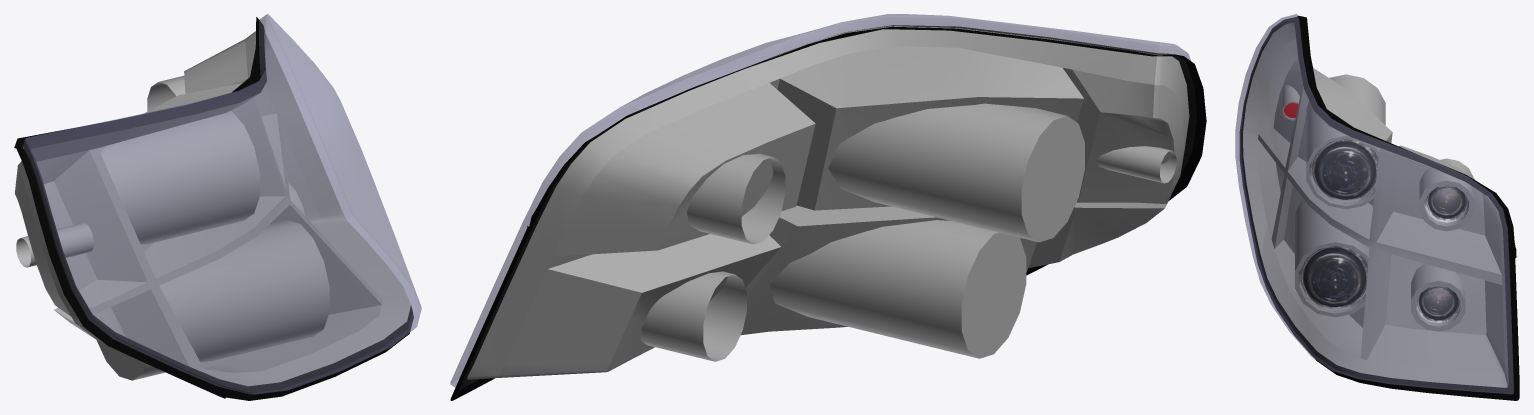
3 renders of one model, left to right at view 1: azimuth 30°, elevation 25°; view 2: azimuth 150°, elevation 25°; view 3: azimuth 270°, elevation 25°, orthographic. The views are drawn at different scales.
Parts seen in each view (by area): view 1: H712_061B_R_H712_061B_R_8_DTaSI, H712_061B_R_H712_061B_R_1_DaS, H712_061B_R_9_D_H712_061B_R, H712_061B_R_H712_061B_R_2_D; view 2: H712_061B_R_H712_061B_R_1_DaS, H712_061B_R_H712_061B_R_8_DTaSI, H712_061B_R_9_D_H712_061B_R, H712_061B_R_H712_061B_R_2_D; view 3: H712_061B_R_H712_061B_R_8_DTaSI, H712_061B_R_H712_061B_R_1_DaS, H712_061B_R_9_D_H712_061B_R, H712_061B_R_H712_061B_R_2_D, H712_061B_R_H712_061B_R_5_N, H712_061B_R_H712_061B_R_6_N, H712_061B_R_H712_061B_R_3_N, H712_061B_R_H712_061B_R_4_N.
Part boxes in pixels (left/top/right/bottom): H712_061B_R_H712_061B_R_8_DTaSI: left=23, top=14, right=421, bottom=394; H712_061B_R_H712_061B_R_1_DaS: left=15, top=27, right=410, bottom=386; H712_061B_R_9_D_H712_061B_R: left=14, top=17, right=413, bottom=400; H712_061B_R_H712_061B_R_2_D: left=23, top=20, right=412, bottom=393; H712_061B_R_H712_061B_R_1_DaS: left=467, top=26, right=1189, bottom=379; H712_061B_R_H712_061B_R_8_DTaSI: left=450, top=14, right=1190, bottom=387; H712_061B_R_9_D_H712_061B_R: left=450, top=26, right=1206, bottom=400; H712_061B_R_H712_061B_R_2_D: left=459, top=25, right=1196, bottom=389; H712_061B_R_H712_061B_R_8_DTaSI: left=1235, top=14, right=1513, bottom=394; H712_061B_R_H712_061B_R_1_DaS: left=1243, top=22, right=1508, bottom=387; H712_061B_R_9_D_H712_061B_R: left=1240, top=15, right=1519, bottom=400; H712_061B_R_H712_061B_R_2_D: left=1241, top=19, right=1513, bottom=393; H712_061B_R_H712_061B_R_5_N: left=1299, top=246, right=1367, bottom=311; H712_061B_R_H712_061B_R_6_N: left=1309, top=139, right=1378, bottom=203; H712_061B_R_H712_061B_R_3_N: left=1424, top=185, right=1468, bottom=222; H712_061B_R_H712_061B_R_4_N: left=1416, top=286, right=1460, bottom=322.
Size of the model in its own units: 41.83 by 25.89 by 29.75.
